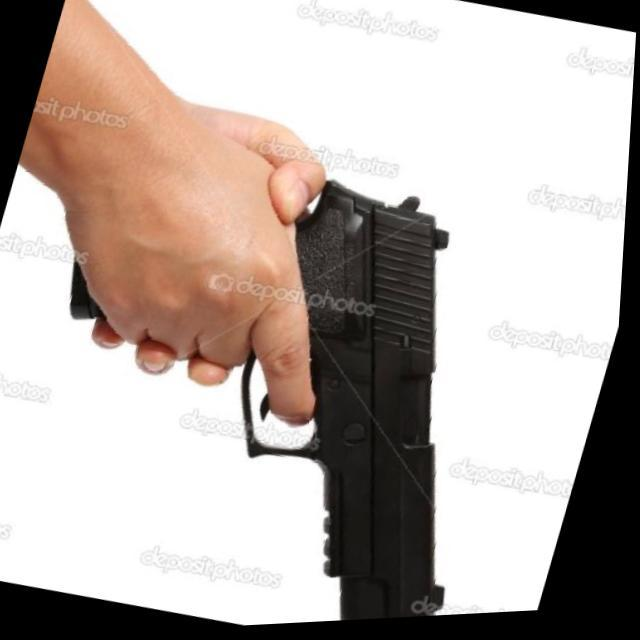weapon: (178, 163, 562, 632)
